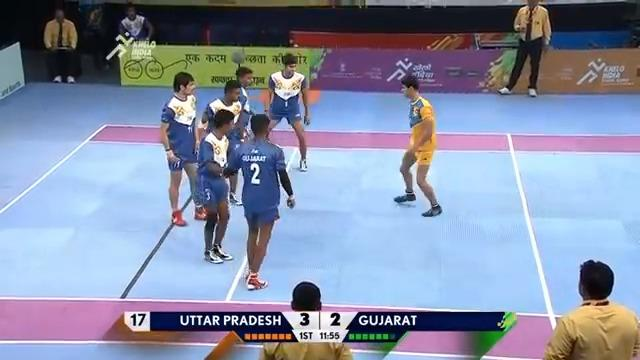Player: (222, 113, 295, 290), (158, 71, 208, 226), (194, 108, 238, 264), (263, 52, 310, 172), (498, 0, 552, 97), (195, 79, 244, 146), (233, 65, 256, 140)
Raider: (392, 74, 442, 216)
referee: (542, 259, 639, 359), (259, 280, 353, 359), (42, 8, 78, 83), (82, 4, 110, 71)
